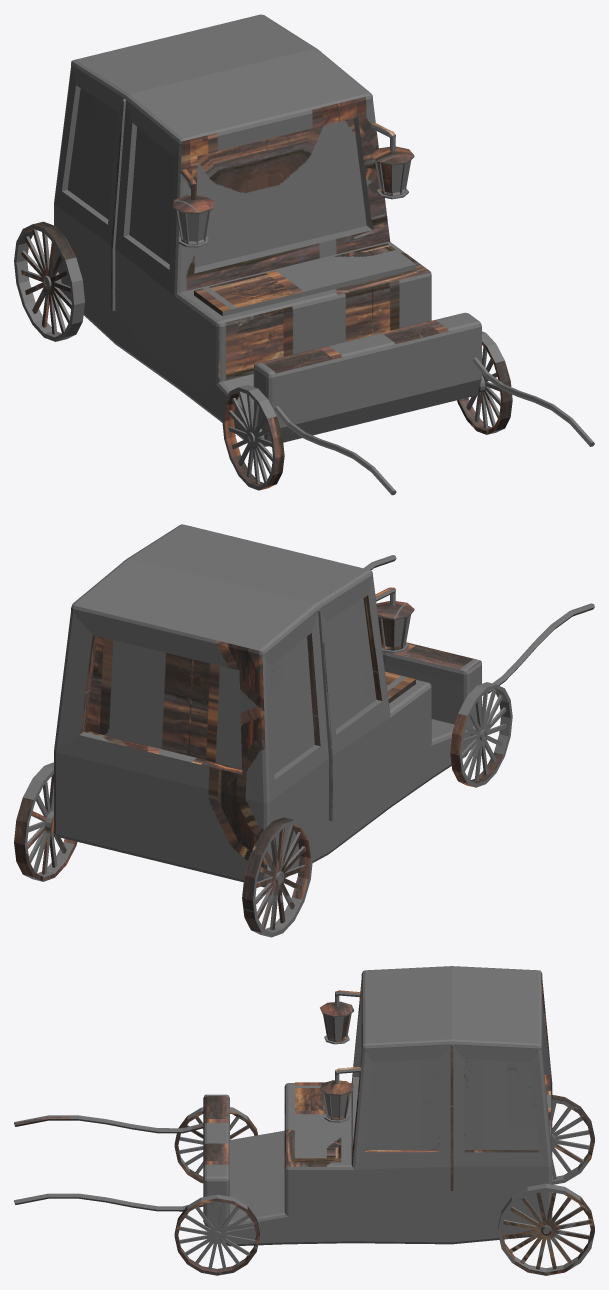
The model's file is Coach.fbx.
3 renders of one model, top to bottom at view 1: azimuth 30°, elevation 25°; view 2: azimuth 150°, elevation 25°; view 3: azimuth 270°, elevation 25°, orthographic. The views are drawn at different scales.
Parts seen in each view (by area): view 1: Coach; view 2: Coach; view 3: Coach.
Boxes of the visible parts, box(x1,y1,x2,y2) form: Coach: box(14, 14, 594, 495); Coach: box(14, 524, 594, 937); Coach: box(14, 966, 594, 1275).
Size of the model in its own units: 223 by 250 by 582.
